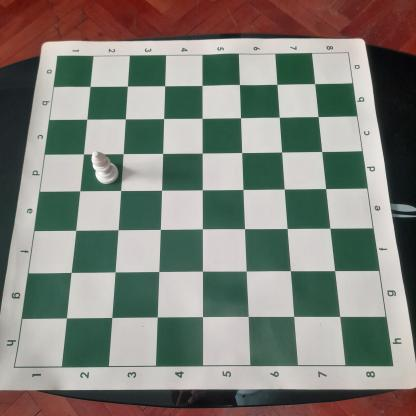white-bishop: (90, 150, 121, 185)
